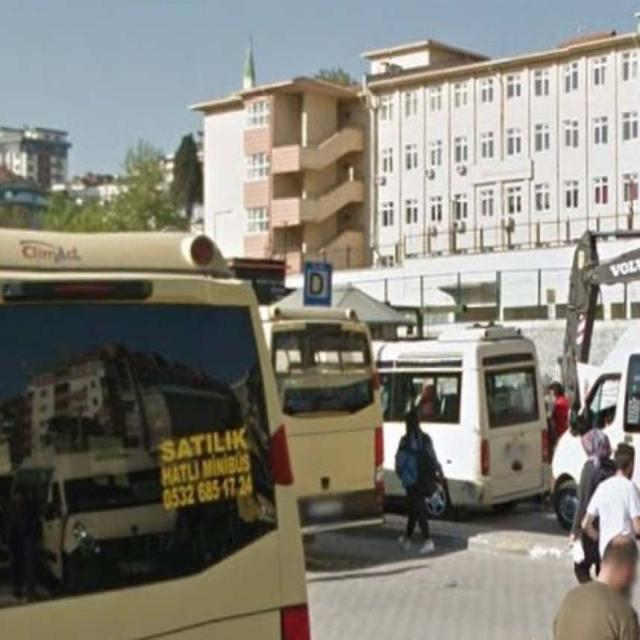durak: (304, 261, 332, 307)
